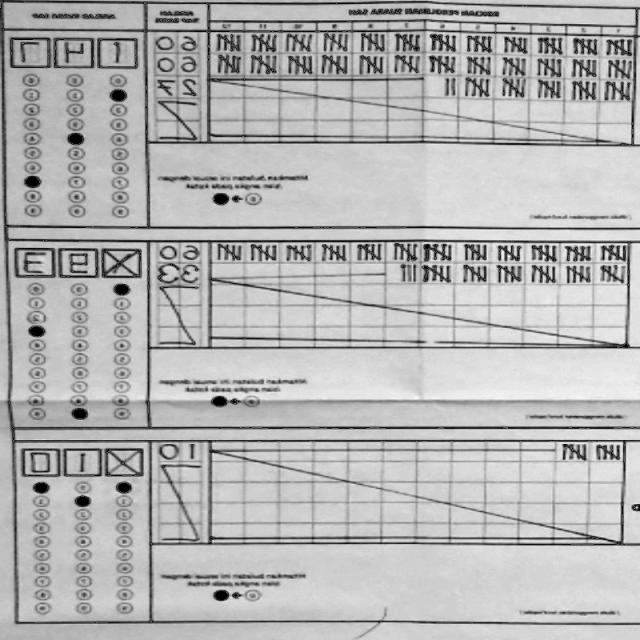Suara: (15, 442, 150, 482), (7, 32, 142, 71), (13, 242, 149, 280)
